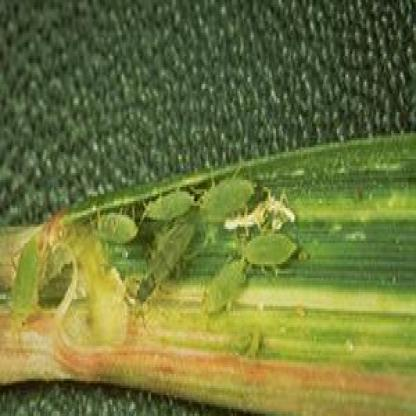aphid: (133, 214, 197, 322), (7, 226, 52, 340), (201, 243, 253, 328), (196, 160, 262, 226), (240, 216, 296, 285), (84, 201, 141, 252), (138, 185, 202, 219)
